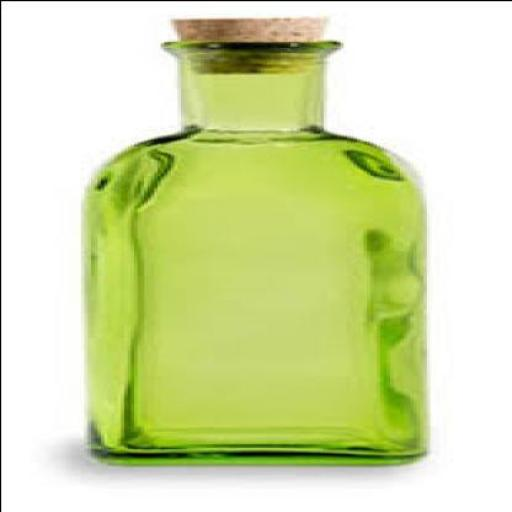glass: (83, 39, 423, 462)
